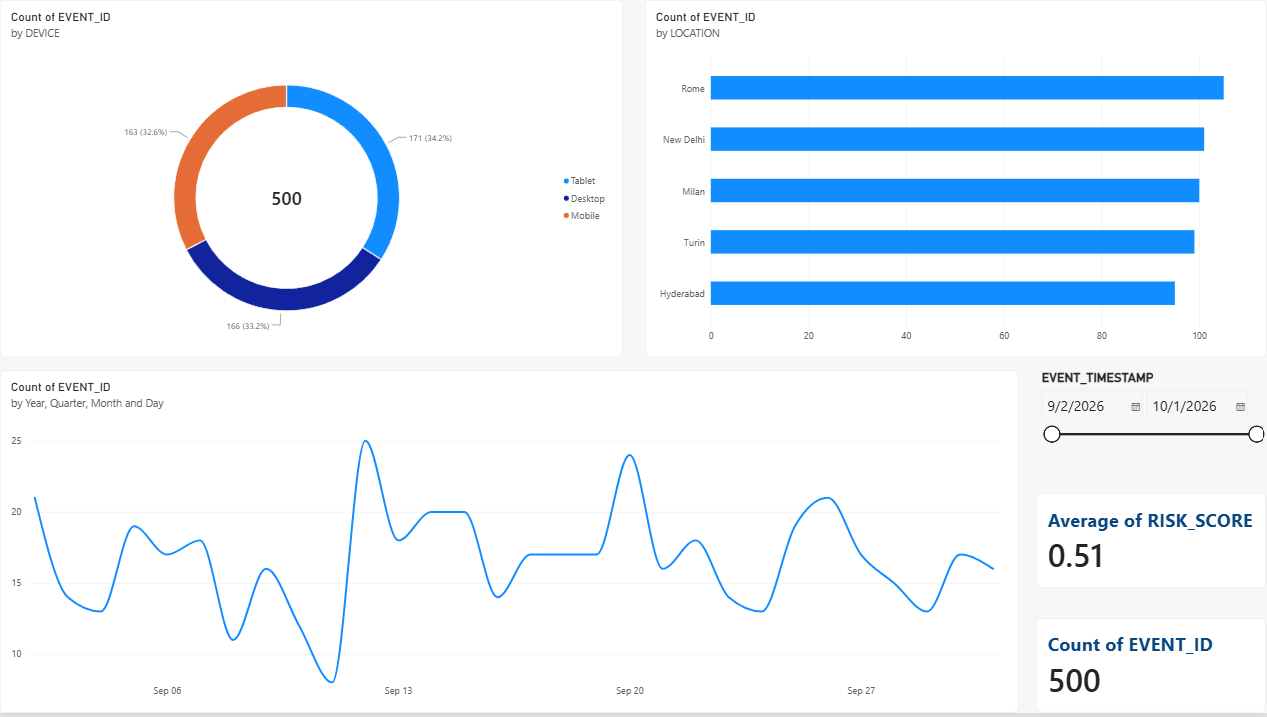

The dashboard page shown, as its layout file describes it:
{"tool":"powerbi","page":{"name":"Page 1","canvas":[1920,1080],"ordinal":0},"visuals":[{"type":"lineChart","fields":{"Y":["CountNonNull(ecommerce_fraud_audit_engine_2026-10-02-1424.EVENT_ID)"],"Category":["ecommerce_fraud_audit_engine_2026-10-02-1424.EVENT_TIMESTAMP.Variation.Date Hierarchy.Year","ecommerce_fraud_audit_engine_2026-10-02-1424.EVENT_TIMESTAMP.Variation.Date Hierarchy.Quarter","ecommerce_fraud_audit_engine_2026-10-02-1424.EVENT_TIMESTAMP.Variation.Date Hierarchy.Month","ecommerce_fraud_audit_engine_2026-10-02-1424.EVENT_TIMESTAMP.Variation.Date Hierarchy.Day"]},"box":[0,561,1542.2,517.9],"z":0},{"type":"cardVisual","fields":{"Data":["CountNonNull(ecommerce_fraud_audit_engine_2026-10-02-1424.EVENT_ID)"]},"box":[1569.5,935.8,349.8,143.1],"z":1000},{"type":"cardVisual","fields":{"Data":["Avg(ecommerce_fraud_audit_engine_2026-10-02-1424.RISK_SCORE)"]},"box":[1569.5,747.3,349.8,143.1],"z":2000},{"type":"clusteredBarChart","fields":{"Category":["ecommerce_fraud_audit_engine_2026-10-02-1424.LOCATION"],"Y":["CountNonNull(ecommerce_fraud_audit_engine_2026-10-02-1424.EVENT_ID)"]},"box":[976.7,0,942.6,540.6],"z":3000},{"type":"donutChart","fields":{"Category":["ecommerce_fraud_audit_engine_2026-10-02-1424.DEVICE"],"Y":["CountNonNull(ecommerce_fraud_audit_engine_2026-10-02-1424.EVENT_ID)"]},"box":[0,0,942.6,540.6],"z":4000},{"type":"slicer","fields":{"Values":["ecommerce_fraud_audit_engine_2026-10-02-1424.EVENT_TIMESTAMP"]},"box":[1569.5,561,349.8,143.1],"z":4001}]}

Visuals, with their boxes in screenshot pixels (x1, y1, x2, y2), scaled from the page's 1920x1080 canvas onto the 1267x717 screenshot:
lineChart - CountNonNull(ecommerce_fraud_audit_engine_2026-10-02-1424.EVENT_ID) x ecommerce_fraud_audit_engine_2026-10-02-1424.EVENT_TIMESTAMP.Variation.Date Hierarchy.Year: <bbox>0, 372, 1018, 716</bbox>
cardVisual - CountNonNull(ecommerce_fraud_audit_engine_2026-10-02-1424.EVENT_ID): <bbox>1036, 621, 1266, 716</bbox>
cardVisual - Avg(ecommerce_fraud_audit_engine_2026-10-02-1424.RISK_SCORE): <bbox>1036, 496, 1266, 591</bbox>
clusteredBarChart - ecommerce_fraud_audit_engine_2026-10-02-1424.LOCATION x CountNonNull(ecommerce_fraud_audit_engine_2026-10-02-1424.EVENT_ID): <bbox>645, 0, 1266, 359</bbox>
donutChart - ecommerce_fraud_audit_engine_2026-10-02-1424.DEVICE x CountNonNull(ecommerce_fraud_audit_engine_2026-10-02-1424.EVENT_ID): <bbox>0, 0, 622, 359</bbox>
slicer - ecommerce_fraud_audit_engine_2026-10-02-1424.EVENT_TIMESTAMP: <bbox>1036, 372, 1266, 467</bbox>
